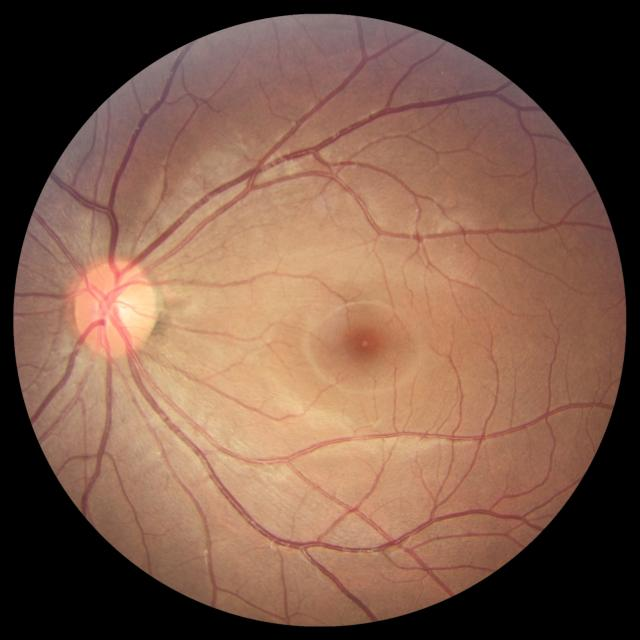OC: (100, 291, 134, 325)
OD: (74, 259, 159, 355)
